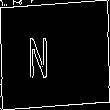N_N: (44, 29, 66, 81)
